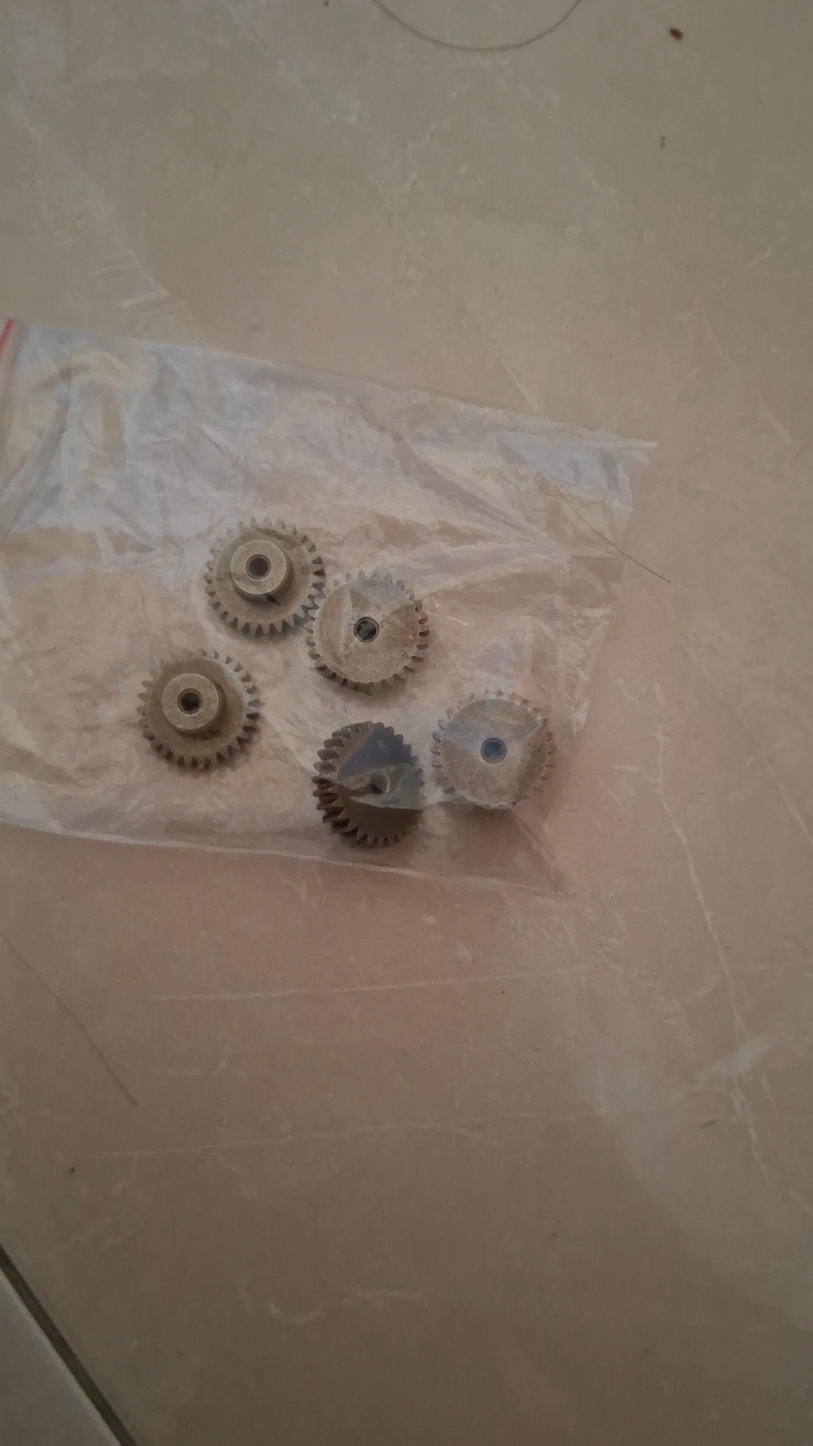spur gear: (308, 573, 428, 692), (432, 694, 555, 810), (139, 651, 259, 768), (313, 722, 423, 845), (205, 522, 324, 635)
